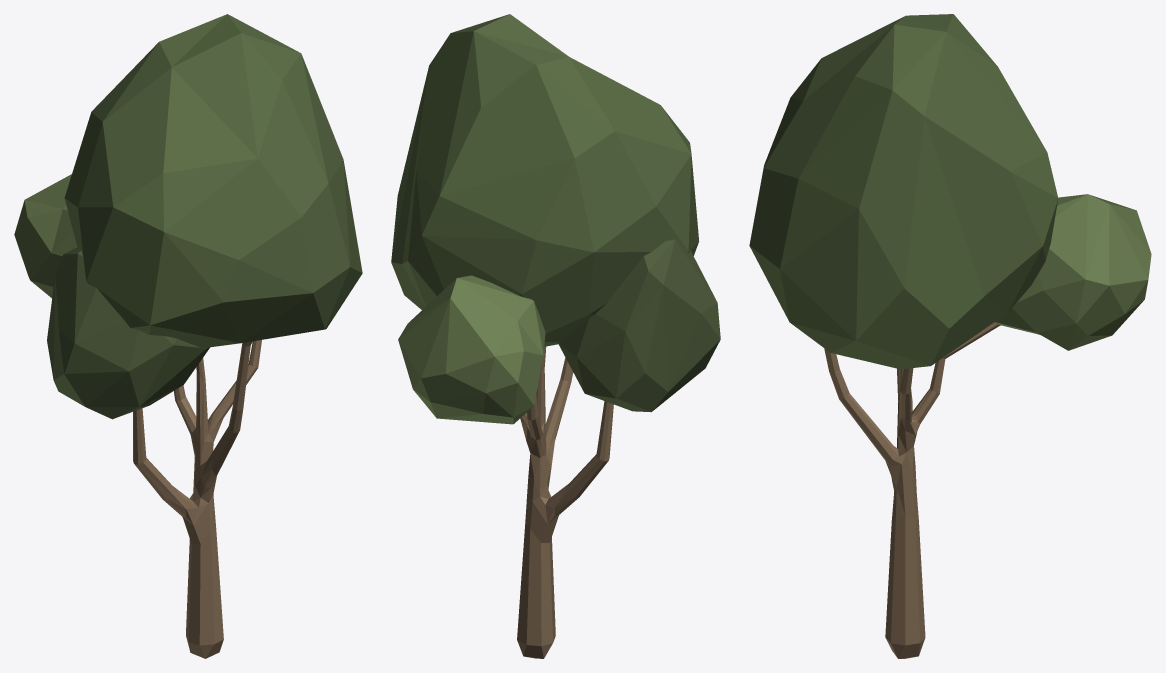
File: SM_Envr_Nature_Tree_04.fbx
The picture shows the model from 3 angles, left to right: view 1: azimuth 30°, elevation 25°; view 2: azimuth 150°, elevation 25°; view 3: azimuth 270°, elevation 25°; orthographic projection. The views are drawn at different scales.
Visible parts, largest first — view 1: SM_Envr_Nature_Tree_04; view 2: SM_Envr_Nature_Tree_04; view 3: SM_Envr_Nature_Tree_04.
Part boxes in pixels (box(x1,y1,x2,y2)): SM_Envr_Nature_Tree_04: box(14, 14, 362, 658); SM_Envr_Nature_Tree_04: box(391, 14, 720, 658); SM_Envr_Nature_Tree_04: box(749, 14, 1151, 658).
Bounding box in the file's own units: 264 × 526 × 295.
